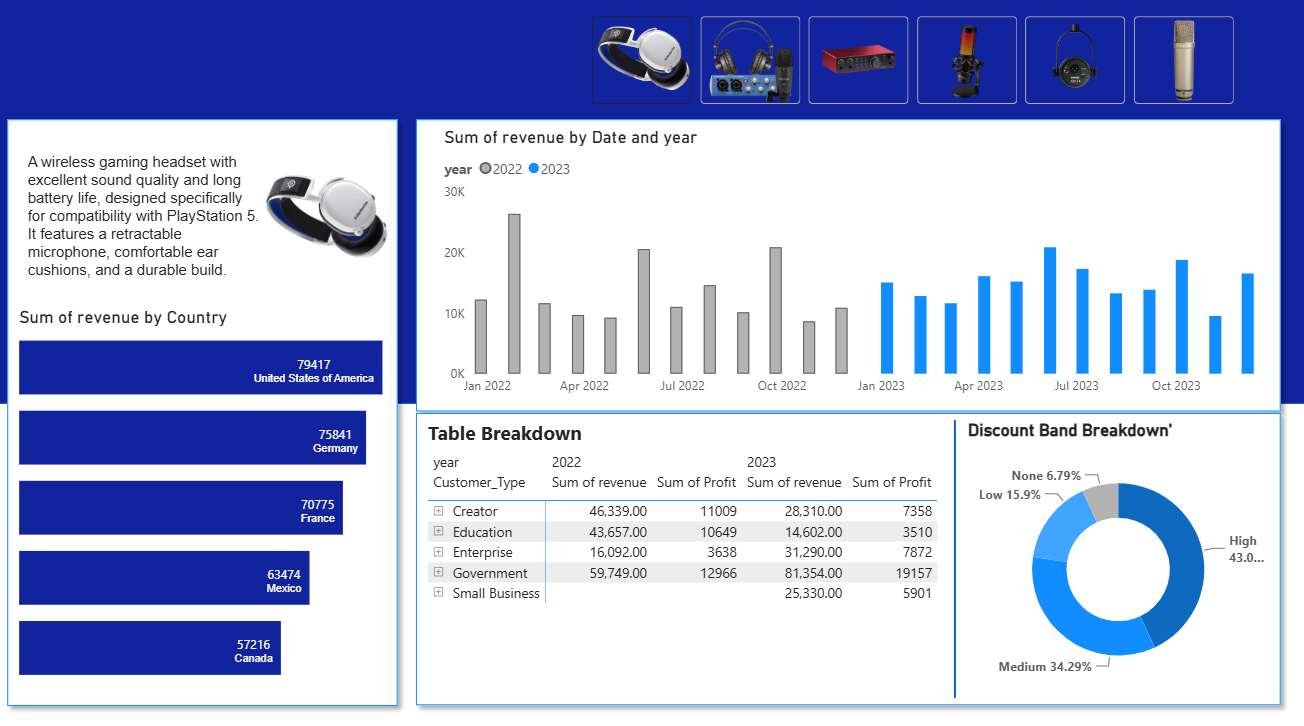

The dashboard page shown, as its layout file describes it:
{"tool":"powerbi","page":{"name":"Page 1","canvas":[1280,720],"ordinal":0},"visuals":[{"type":"shape","box":[0,0,1280,400],"z":0},{"type":"shape","box":[0,112,400,592],"z":1000},{"type":"shape","box":[400,112,864,304],"z":2000},{"type":"shape","box":[400,400,864,304],"z":3000},{"type":"advancedSlicerVisual","fields":{"Values":["Query1.Image_url"]},"box":[576,16,640,96],"z":4000},{"type":"cardVisual","fields":{"Data":["Min(Query1.Description)"]},"box":[0,80,288,272],"z":5000},{"type":"clusteredBarChart","fields":{"Category":["Query1.Country"],"Y":["Sum(Query1.revenue)"]},"box":[16,304,368,368],"z":6000},{"type":"clusteredColumnChart","fields":{"Y":["Sum(Query1.revenue)"],"Series":["Query1.year"],"Category":["Query1.Date"]},"box":[432,128,816,272],"z":7000},{"type":"donutChart","title":"Discount Band Breakdown''","fields":{"Y":["Sum(Query1.revenue)"],"Category":["Query1.Discount_Band"]},"box":[944,416,304,272],"z":8000},{"type":"pivotTable","title":"Table Breakdown","fields":{"Rows":["Query1.Customer_Type","Query1.Product"],"Columns":["Query1.year"],"Values":["Sum(Query1.revenue)","Sum(Query1.Profit)"]},"box":[416,416,512,272],"z":9000},{"type":"shape","box":[928,416,16,272],"z":10000},{"type":"cardVisual","fields":{"Data":["Min(Query1.Product)"]},"box":[240,0,160,304],"z":11000}]}

Visuals, with their boxes in screenshot pixels (x1, y1, x2, y2), scaled from the page's 1280x720 canvas onto the 1304x726 screenshot:
shape: Rect(0, 0, 1303, 403)
shape: Rect(0, 113, 408, 710)
shape: Rect(408, 113, 1288, 419)
shape: Rect(408, 403, 1288, 710)
advancedSlicerVisual - Query1.Image_url: Rect(587, 16, 1239, 113)
cardVisual - Min(Query1.Description): Rect(0, 81, 293, 355)
clusteredBarChart - Query1.Country x Sum(Query1.revenue): Rect(16, 307, 391, 678)
clusteredColumnChart - Sum(Query1.revenue) x Query1.year: Rect(440, 129, 1271, 403)
"Discount Band Breakdown''" donutChart: Rect(962, 419, 1271, 694)
"Table Breakdown" pivotTable: Rect(424, 419, 945, 694)
shape: Rect(945, 419, 962, 694)
cardVisual - Min(Query1.Product): Rect(244, 0, 408, 307)
